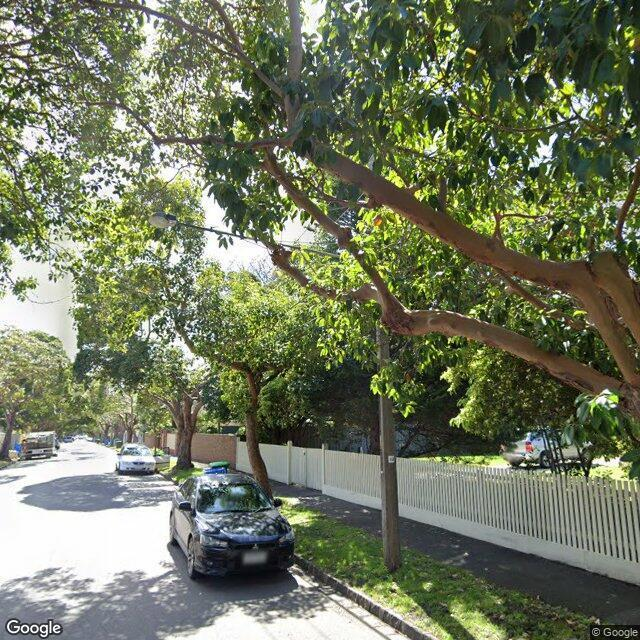timber-pole: (376, 320, 401, 570)
